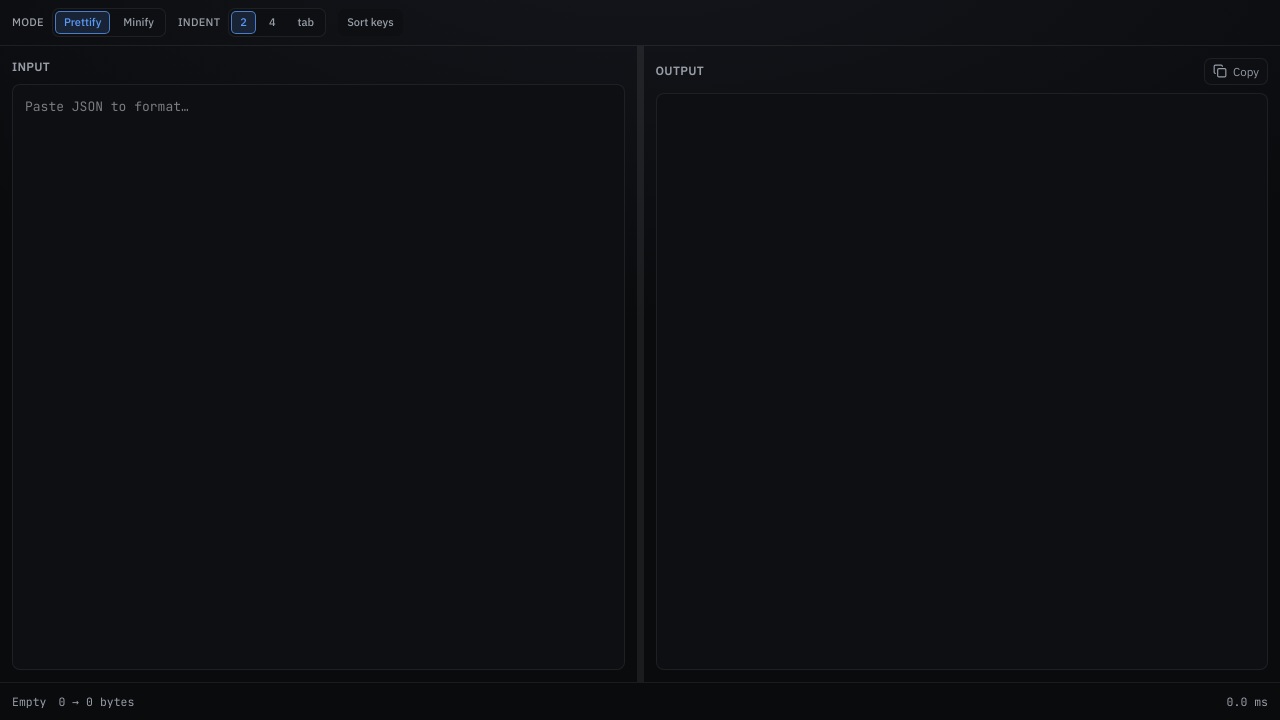
it: JsonFormatterTool › hides the Indent control in Minify mode and restores it in Prettify (D-04)
Check: the element named "Indent" is shown, box [228,8,326,36]
Click the button "Minify" at (139, 22), box [114,11,163,34]
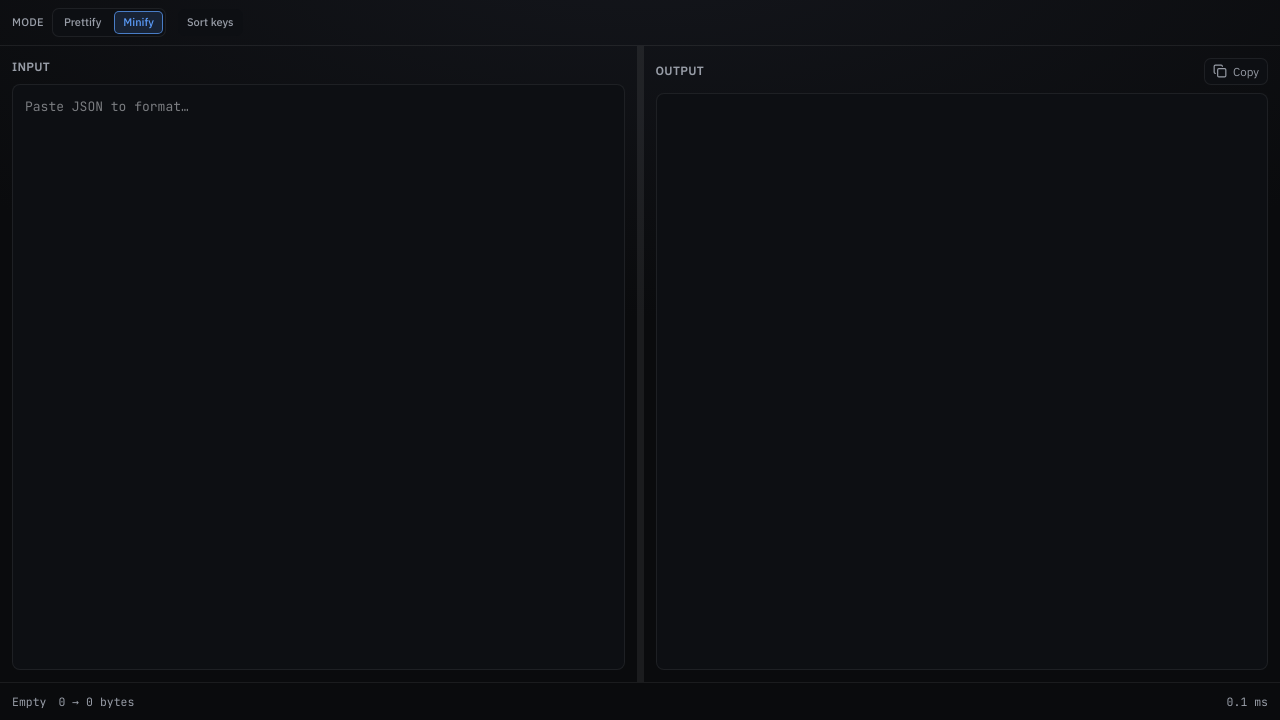
Check: the text "Indent" is gone
Click the button "Prettify" at (83, 22), box [55,11,110,34]
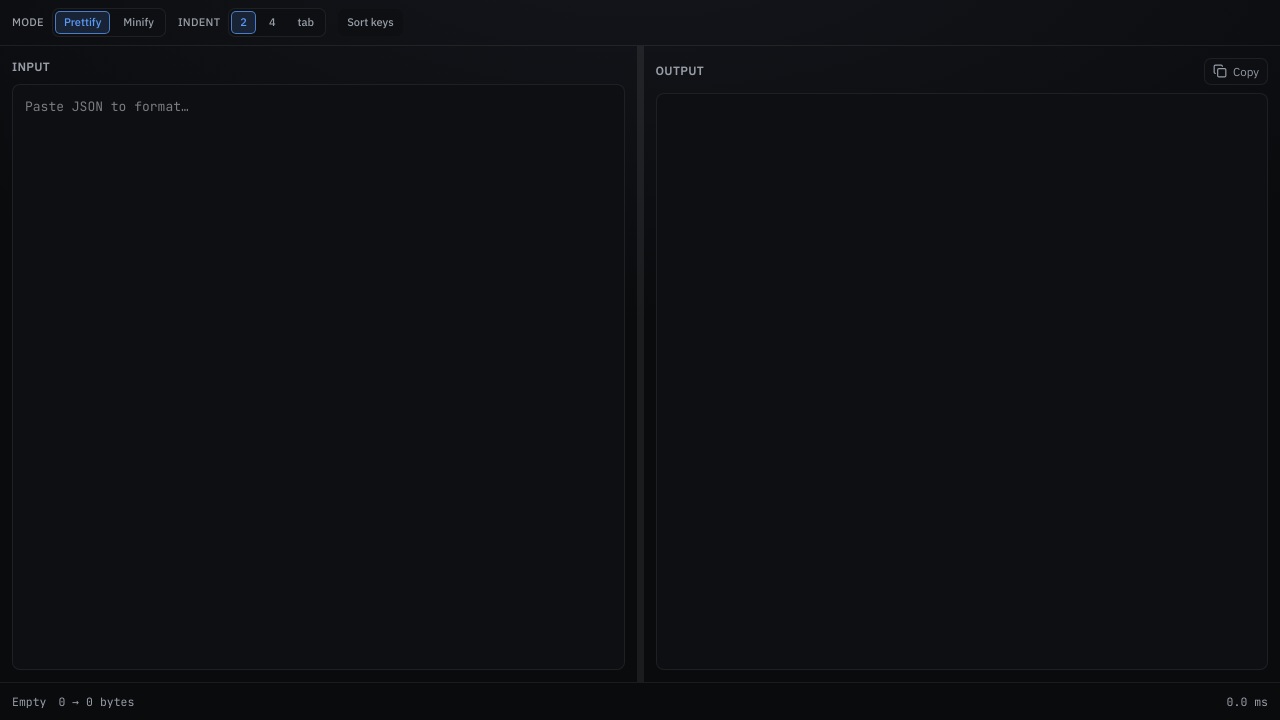
Check: the element named "Indent" is shown, box [228,8,326,36]
